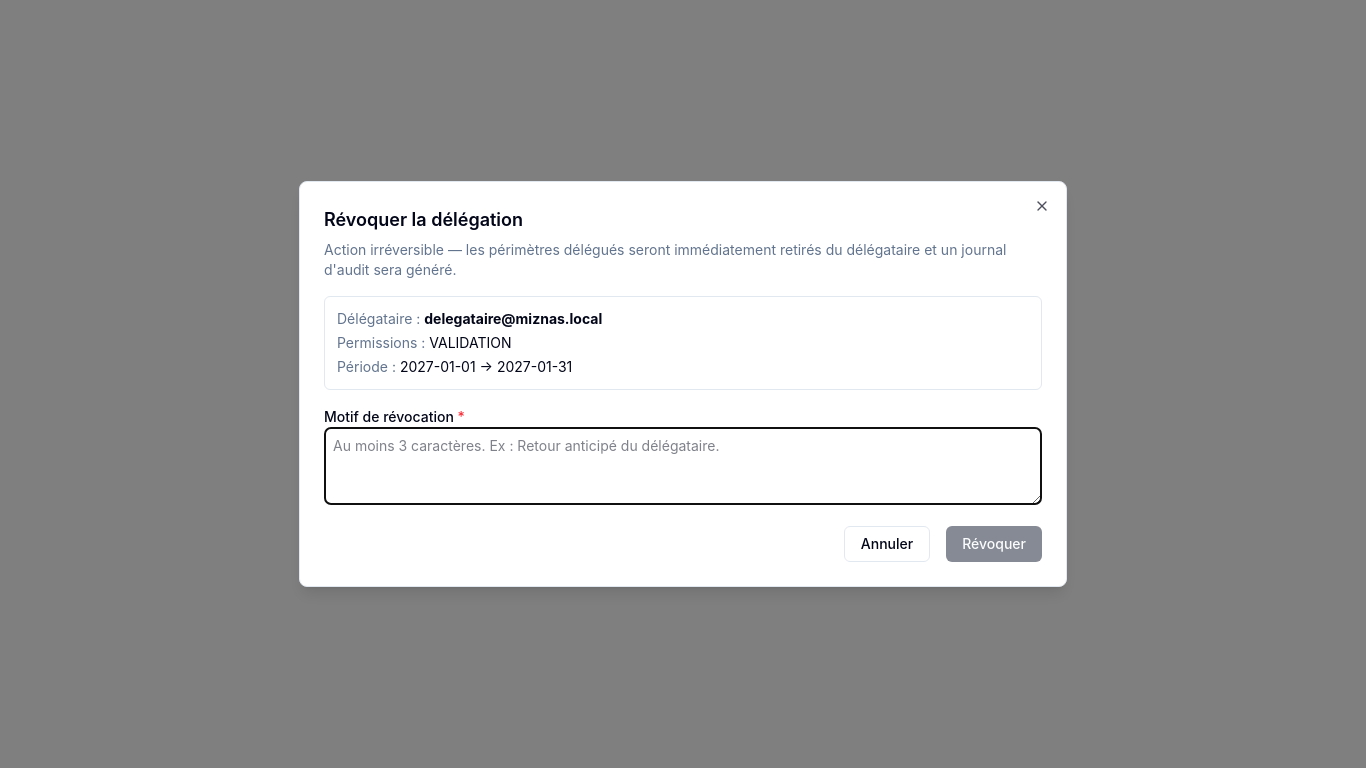
RevoquerDelegationDialog › le bouton confirmer est désactivé tant que motif < 3 caractères
The image size is (1366, 768).
Expected: the button with test id "btn-confirmer-revocation" is disabled, [946,526,1042,562]
Type "ab" into the text box with test id "motif-revocation" at (683, 466), box [324,427,1042,505]
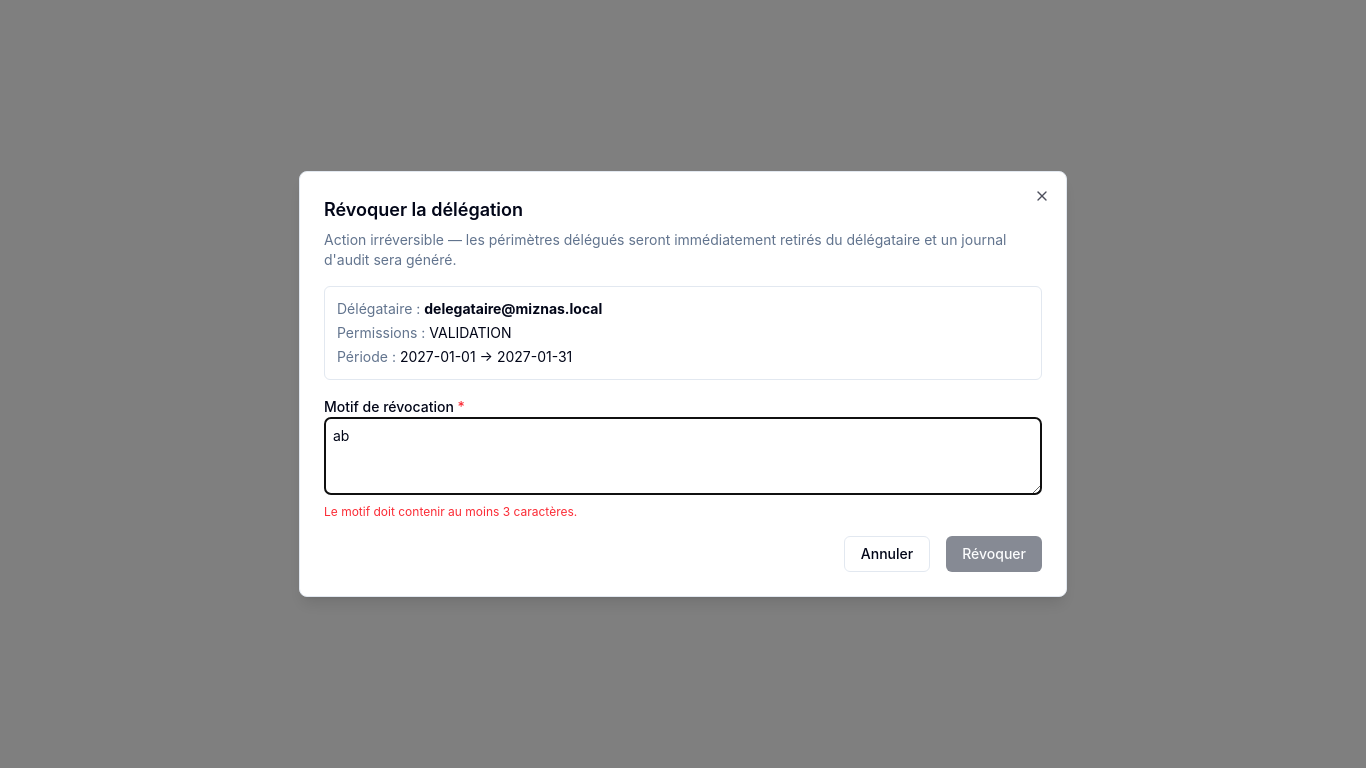
Expected: the button with test id "btn-confirmer-revocation" is disabled, [946,536,1042,572]
Replace the text in the text box with test id "motif-revocation" with "Retour anticipé" at (683, 456), box [324,417,1042,495]
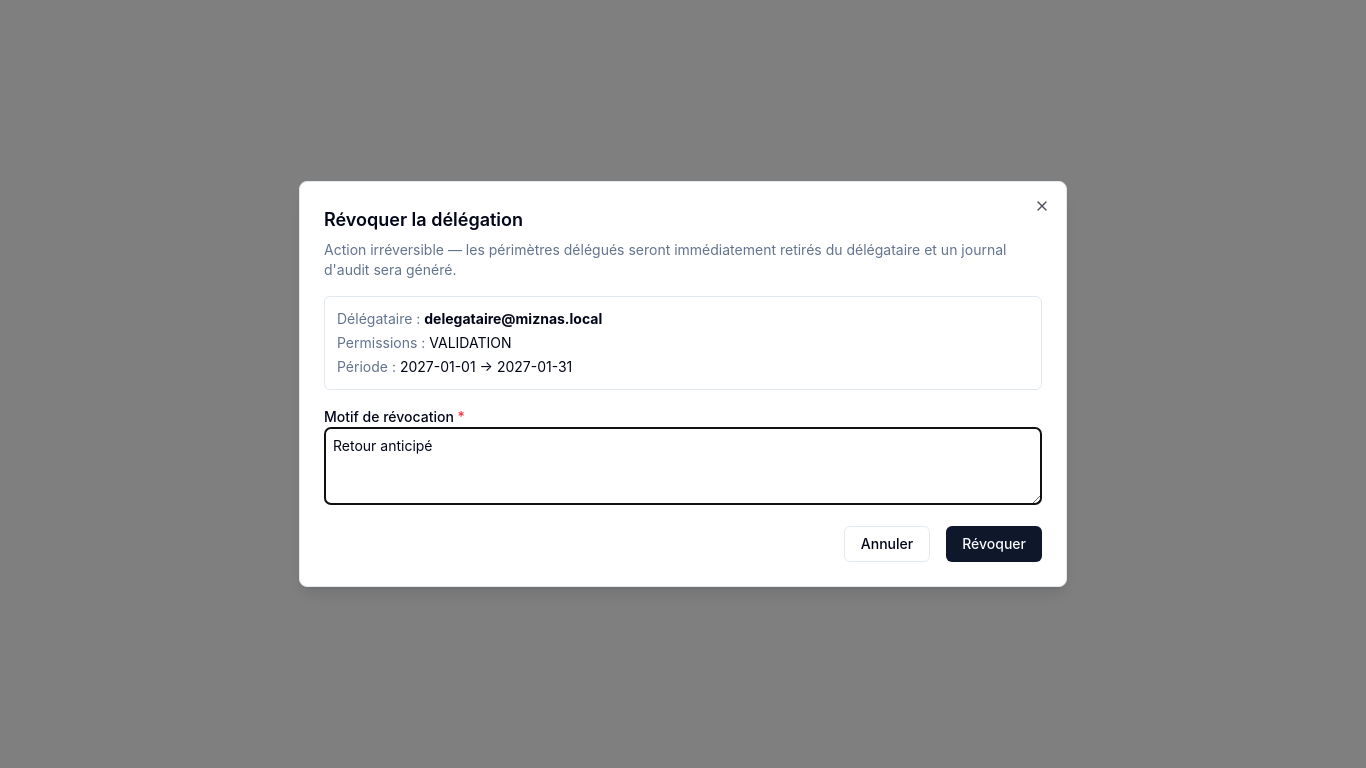
Now the button with test id "btn-confirmer-revocation" is enabled, box [946,526,1042,562]
